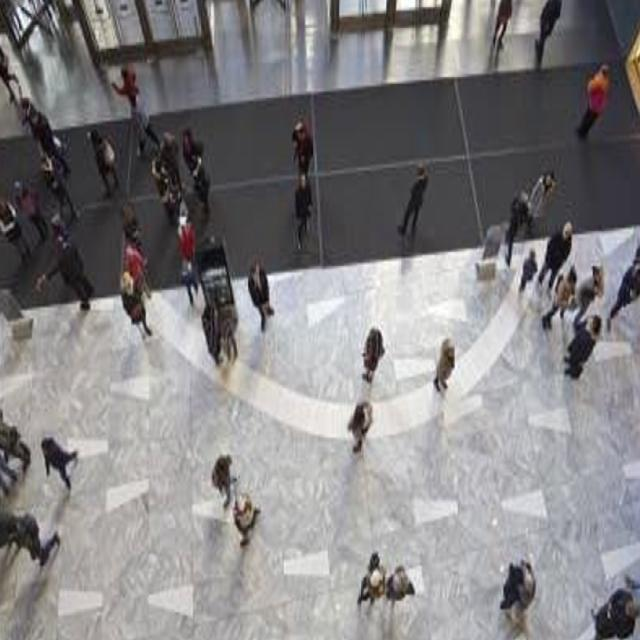humans: (35, 232, 97, 318), (32, 135, 83, 228), (17, 96, 74, 174), (82, 122, 125, 200), (171, 202, 203, 305), (2, 514, 62, 568), (605, 244, 640, 336), (181, 124, 215, 215), (396, 156, 432, 241), (576, 59, 611, 144), (591, 580, 640, 640), (563, 308, 600, 384), (500, 549, 538, 620), (537, 212, 574, 284), (37, 432, 80, 492), (117, 270, 153, 340), (248, 256, 277, 338), (149, 150, 179, 225), (1, 196, 32, 268), (128, 94, 164, 156), (384, 549, 420, 611), (507, 182, 531, 265), (544, 266, 576, 328), (358, 544, 387, 612), (10, 177, 45, 233), (292, 166, 314, 254), (432, 329, 458, 403), (347, 395, 375, 459), (535, 0, 563, 63), (230, 495, 262, 548), (532, 163, 558, 222), (362, 324, 386, 386), (579, 258, 608, 306), (210, 451, 236, 504), (292, 112, 316, 168), (493, 0, 515, 56), (110, 62, 142, 97)
